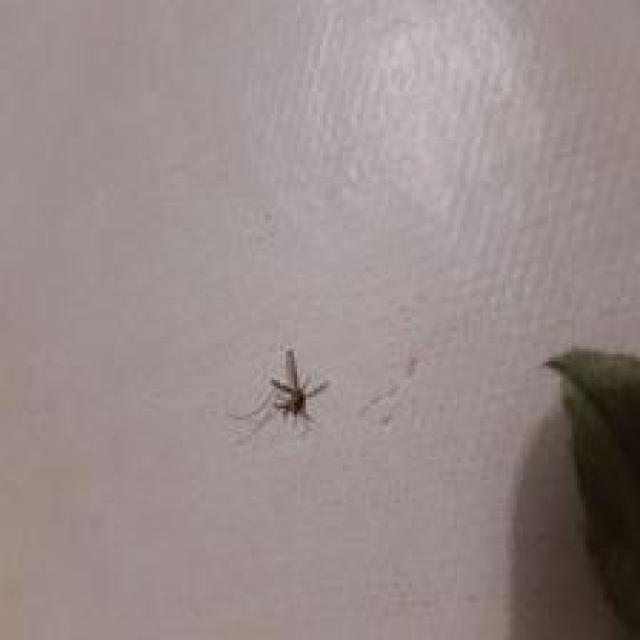Culex: (227, 347, 330, 442)
